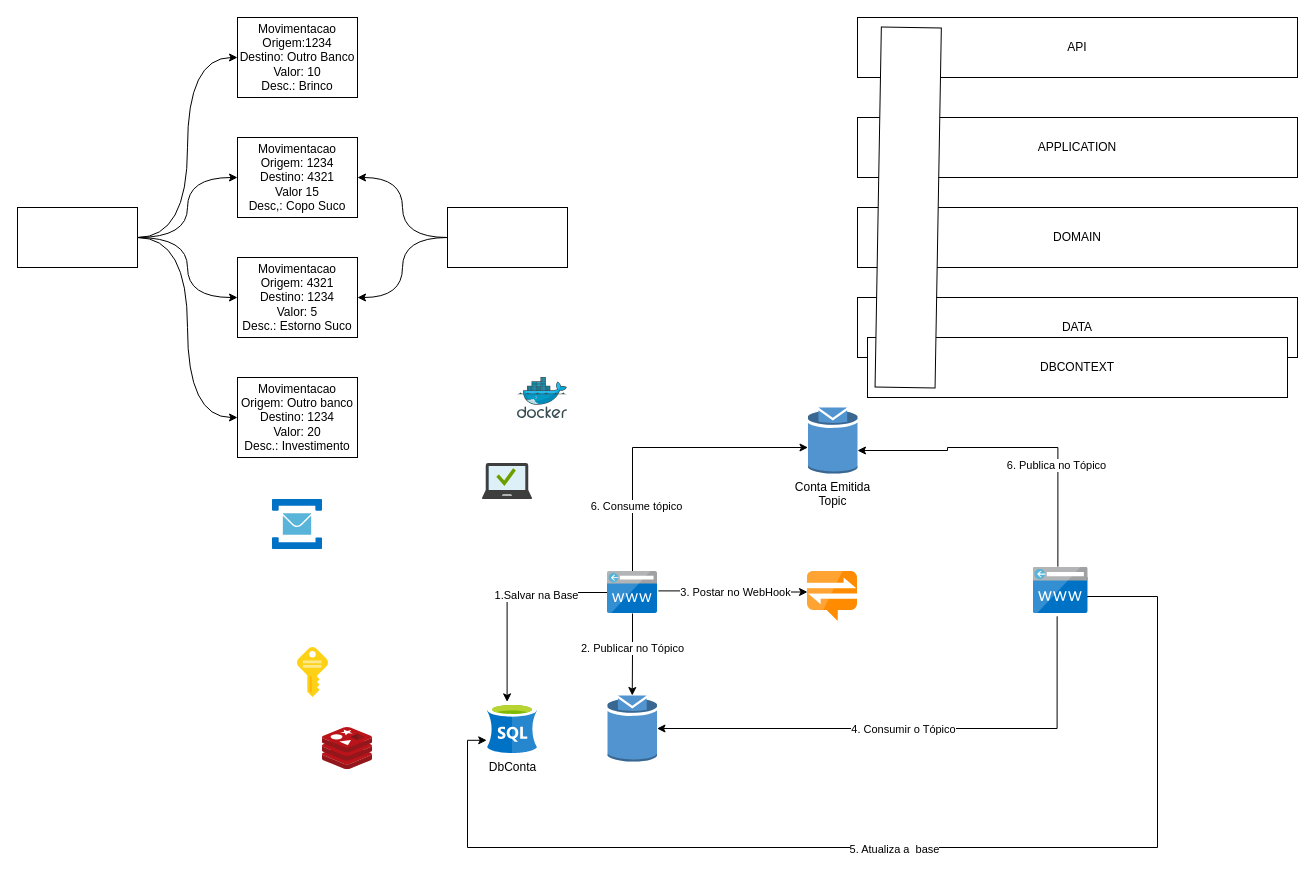
The diagram is 1315 pixels wide and 873 high, and some of its shapes have lost their labels. Each missing label, with the centre of its shape:
Conta Criada Topic: (x=631, y=728)
InclusaoTransferencia: (x=907, y=207)
Usuario Abel Conta 1234 Saldo: 40: (x=77, y=237)
Usuario Joel Conta 4321 Saldo: 10: (x=507, y=237)
WebHook: (x=832, y=596)
